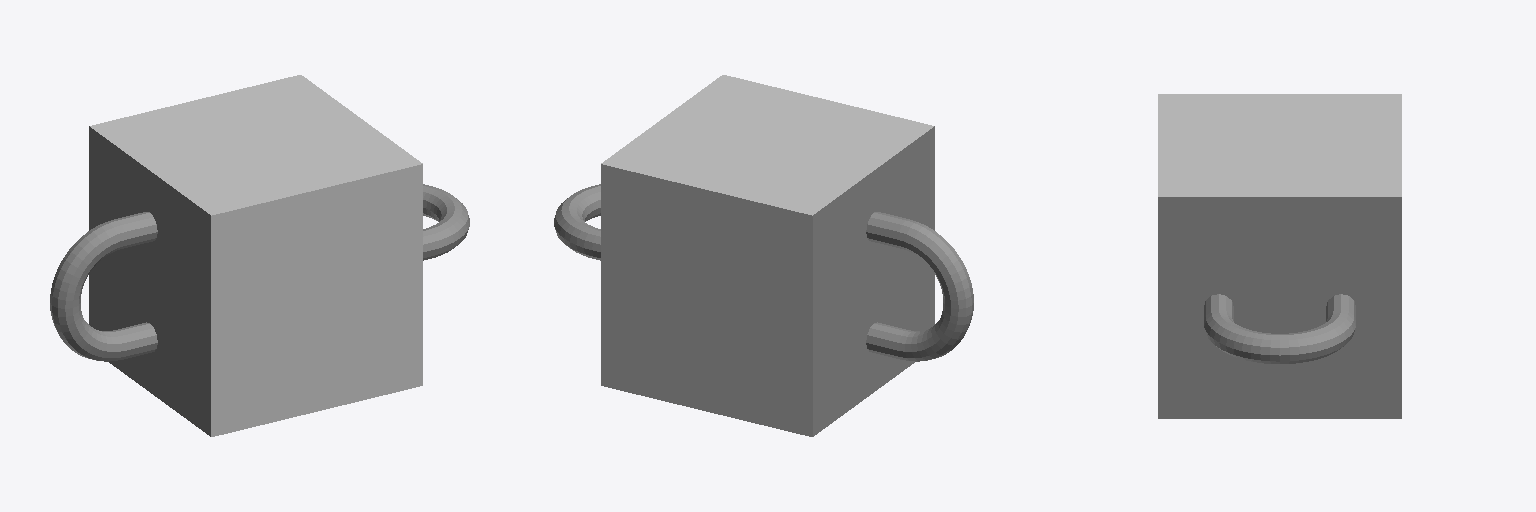
File: block_bakery.obj
3 views of the same model, side by side, from view 1: azimuth 30°, elevation 25°; view 2: azimuth 150°, elevation 25°; view 3: azimuth 270°, elevation 25° (orthographic).
Visible parts, largest first — view 1: Torus.045_Torus.058; view 2: Torus.045_Torus.058; view 3: Torus.045_Torus.058.
Boxes of the visible parts, x1=… form: Torus.045_Torus.058: x1=50, y1=75, x2=469, y2=436; Torus.045_Torus.058: x1=554, y1=75, x2=973, y2=436; Torus.045_Torus.058: x1=1158, y1=94, x2=1401, y2=418.
Bounding box in the file's own units: 2.31 × 1.2 × 1.2.